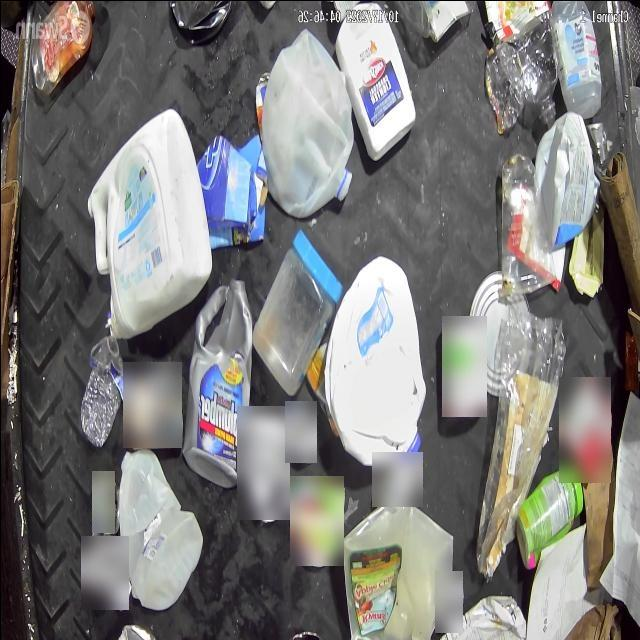milk_jug: (92, 98, 212, 340), (324, 250, 423, 462), (258, 28, 353, 219), (116, 445, 203, 609)
non_white_jug: (341, 507, 454, 640), (180, 280, 252, 484), (537, 112, 595, 246)
plastic_bottle: (77, 336, 126, 446)
